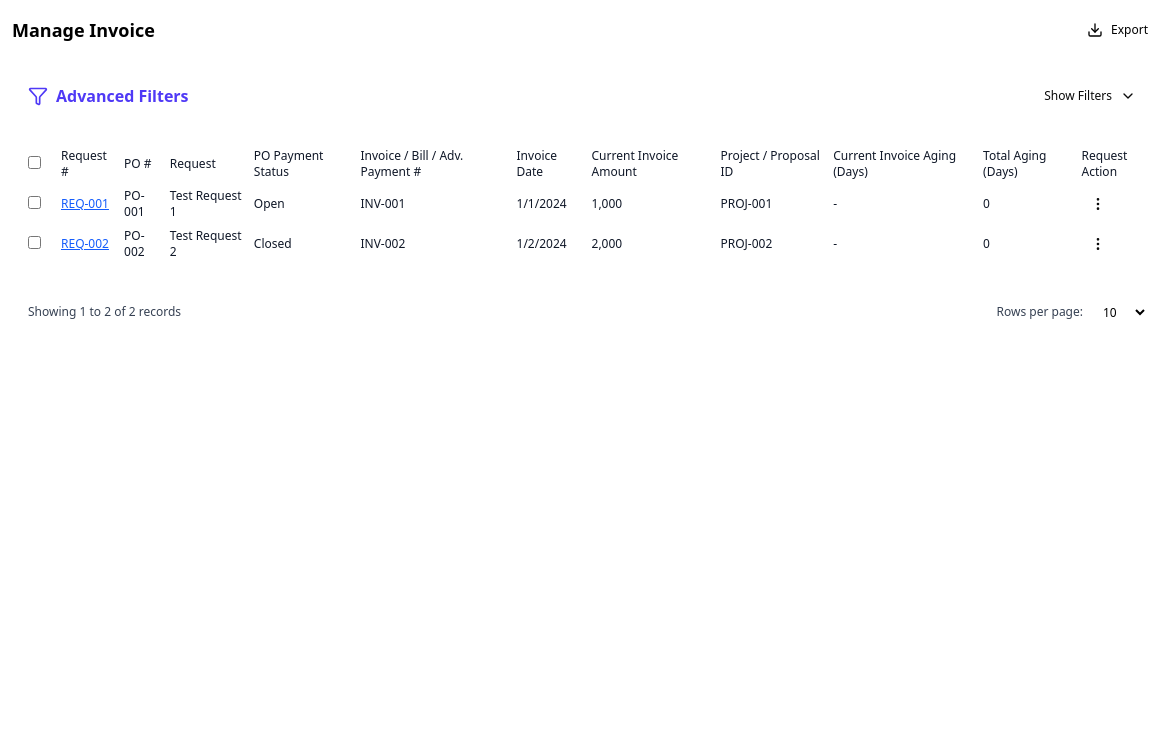
InvoicesContent Component › should toggle advanced filters visibility
expect the button "REQ-001" is shown: met, box x1=61 y1=196 x2=109 y2=212
Click the button "Show Filters".
click(1090, 96)  # box x1=1032 y1=80 x2=1148 y2=112
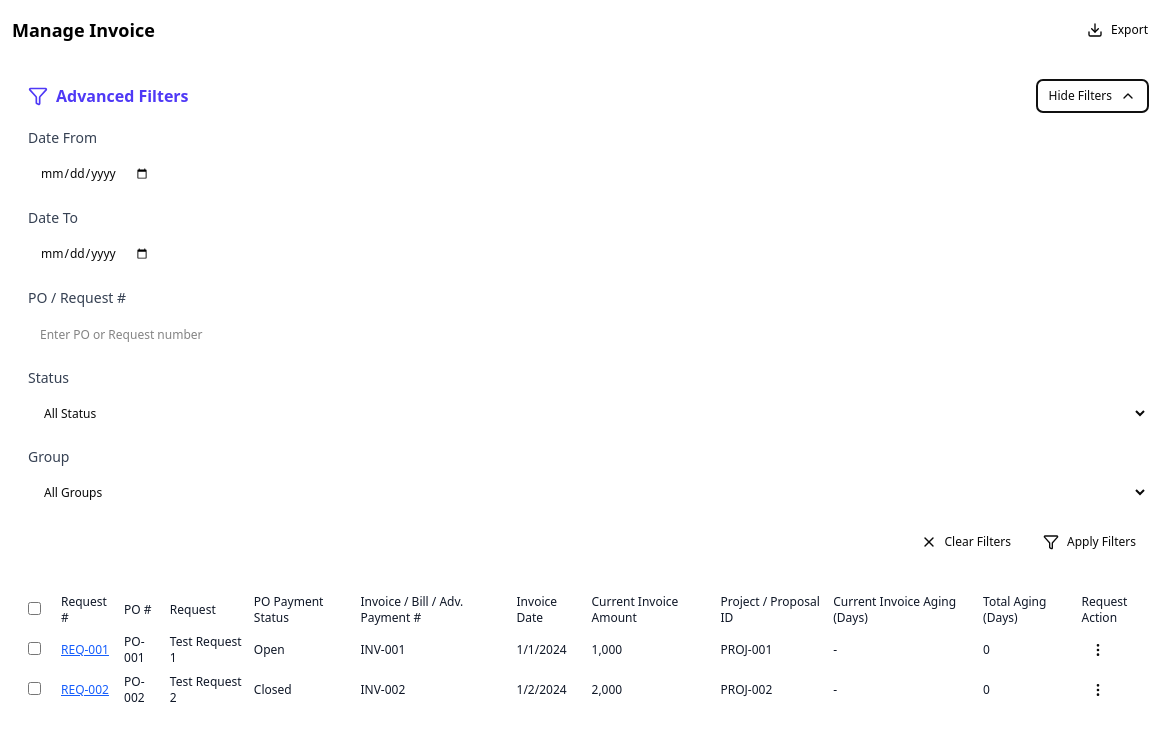
expect the date field labelled "Date From" is shown: met, box x1=28 y1=156 x2=1148 y2=192
expect the date field labelled "Date To" is shown: met, box x1=28 y1=236 x2=1148 y2=272
expect the field labelled "PO / Request #" is shown: met, box x1=28 y1=316 x2=1148 y2=352
Click the button "Hide Filters".
click(1092, 96)  # box x1=1036 y1=80 x2=1148 y2=112
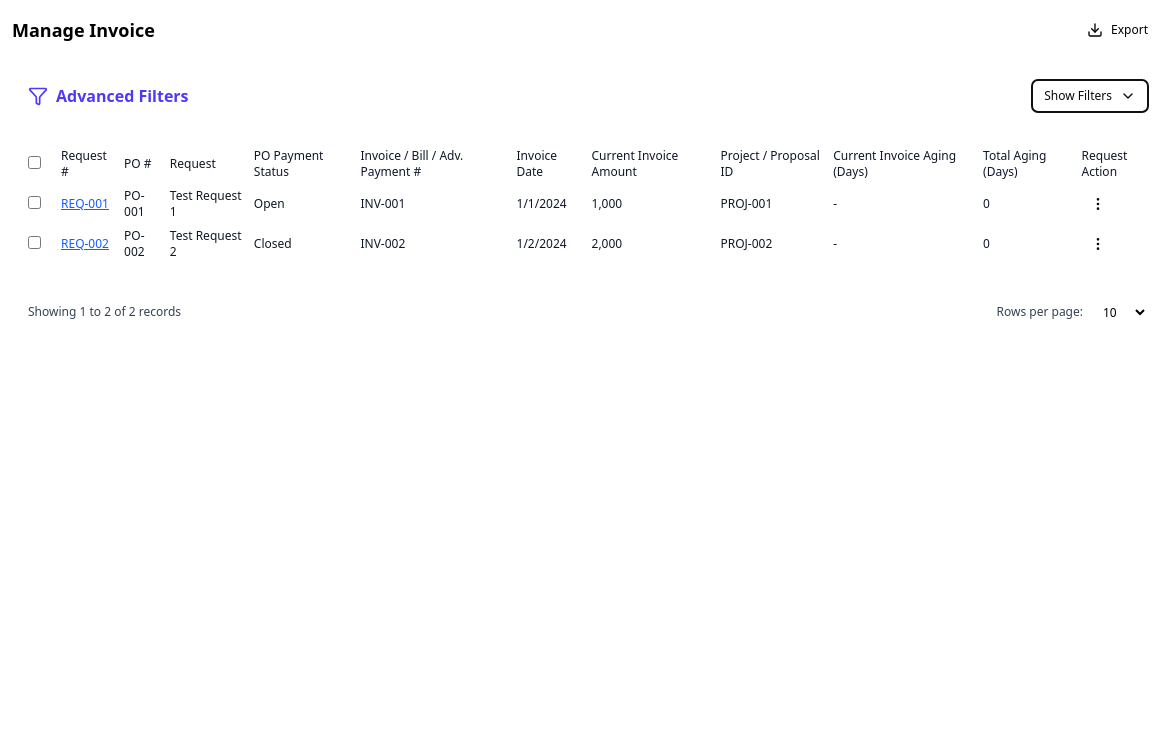
expect the label labelled "Date From" is gone: met
